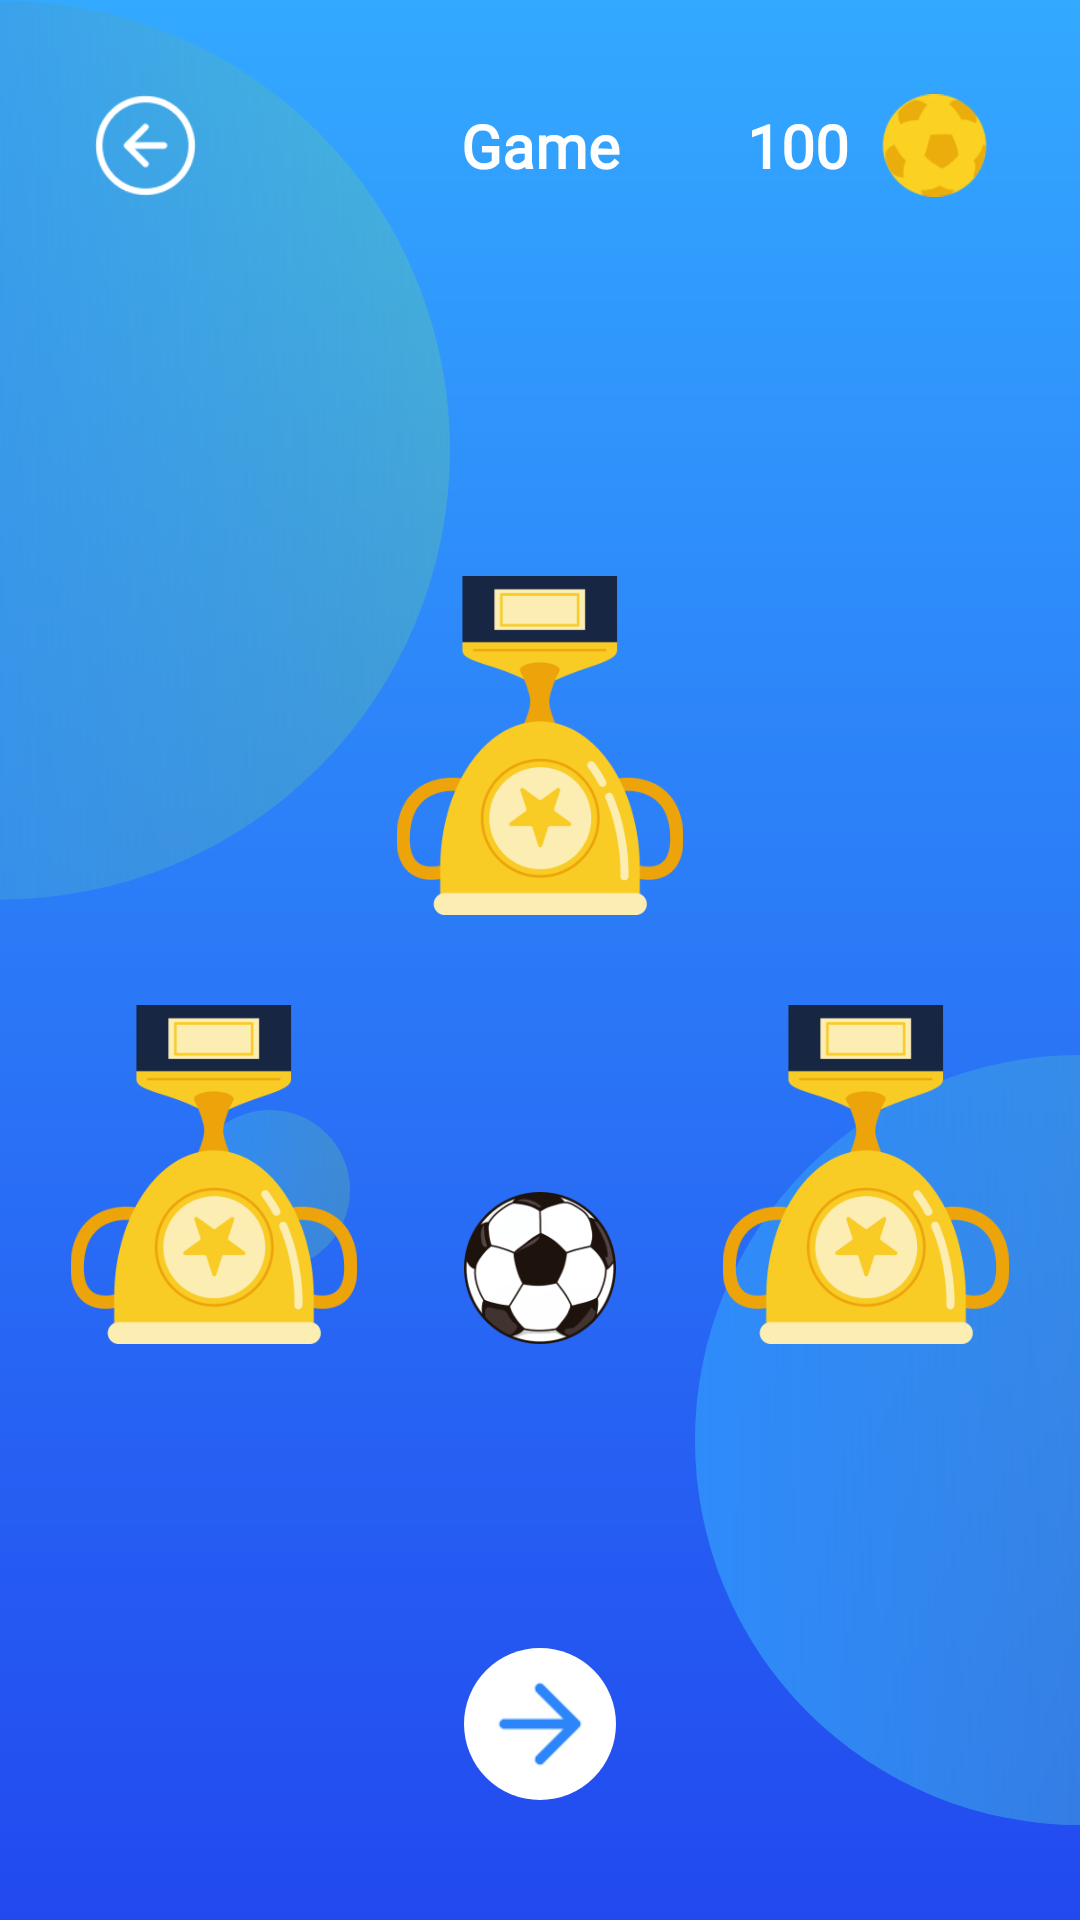

Where icons sit on this 1080w x 1920h app screen, as (x1, y1, x2, y2):
arrow right: (464, 1648, 616, 1800)
back: (96, 96, 195, 195)
ball: (464, 1192, 616, 1344)
ball gold: (882, 94, 987, 197)
